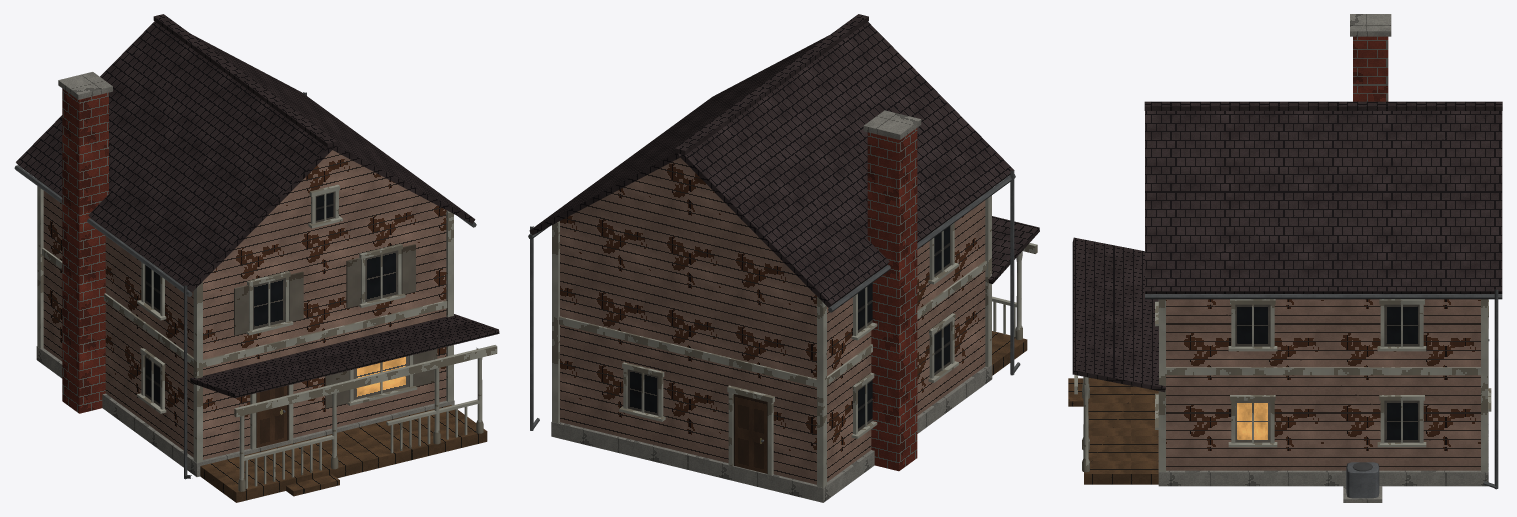
The model's file is town_house_f.glb.
The picture shows the model from 3 angles, left to right: view 1: azimuth 30°, elevation 25°; view 2: azimuth 150°, elevation 25°; view 3: azimuth 270°, elevation 25°; orthographic projection. The views are drawn at different scales.
Visible parts, largest first — view 1: detail, shell-col; view 2: detail, shell-col; view 3: detail, shell-col.
Boxes of the visible parts, x1=… form: detail: x1=14, y1=14, x2=499, y2=491; shell-col: x1=36, y1=186, x2=487, y2=502; detail: x1=528, y1=14, x2=1039, y2=487; shell-col: x1=551, y1=196, x2=1027, y2=502; detail: x1=1072, y1=14, x2=1502, y2=502; shell-col: x1=1068, y1=299, x2=1488, y2=486.
Size of the model in its own units: 9.58 by 9.27 by 11.06.
Materials: 14 (14 with a texture image).
